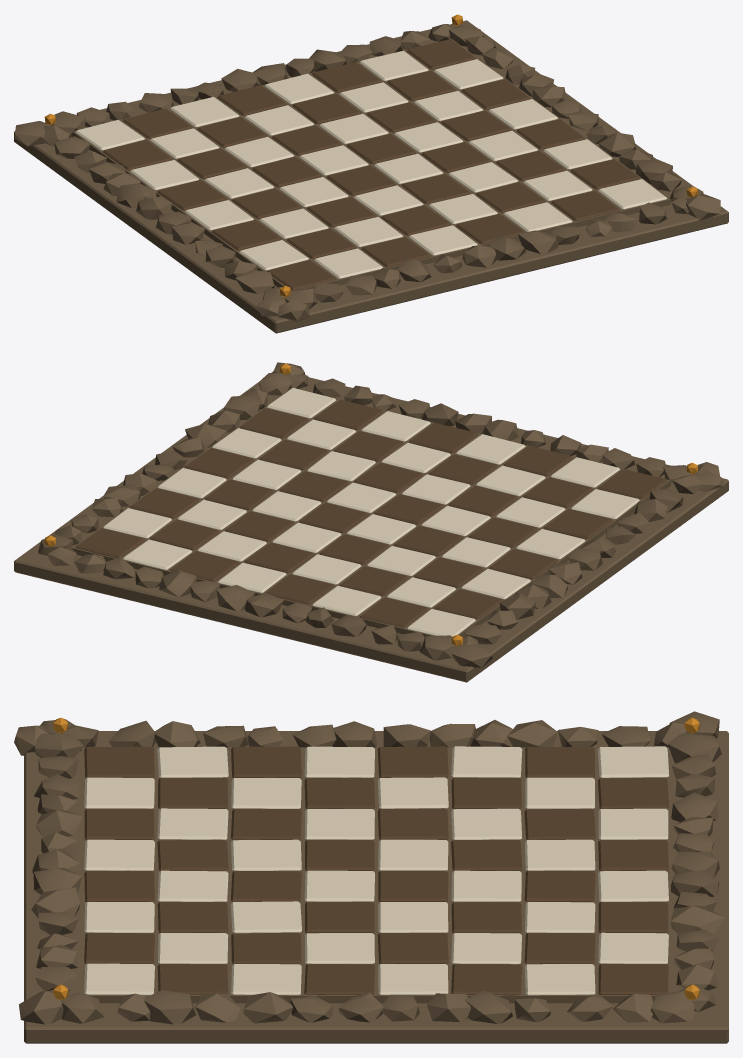
Rendered from HistoriaNatural_Tablero.fbx.
The picture shows the model from 3 angles, top to bottom: view 1: azimuth 30°, elevation 25°; view 2: azimuth 150°, elevation 25°; view 3: azimuth 270°, elevation 25°; orthographic projection. The views are drawn at different scales.
Parts seen in each view (by area): view 1: HistoriaNatural_Tablero; view 2: HistoriaNatural_Tablero; view 3: HistoriaNatural_Tablero.
Boxes of the visible parts, box(x1,y1,x2,y2) form: HistoriaNatural_Tablero: box(14, 14, 728, 333); HistoriaNatural_Tablero: box(14, 362, 728, 682); HistoriaNatural_Tablero: box(14, 711, 728, 1043).
Size of the model in its own units: 9.83 by 1.17 by 9.74.
